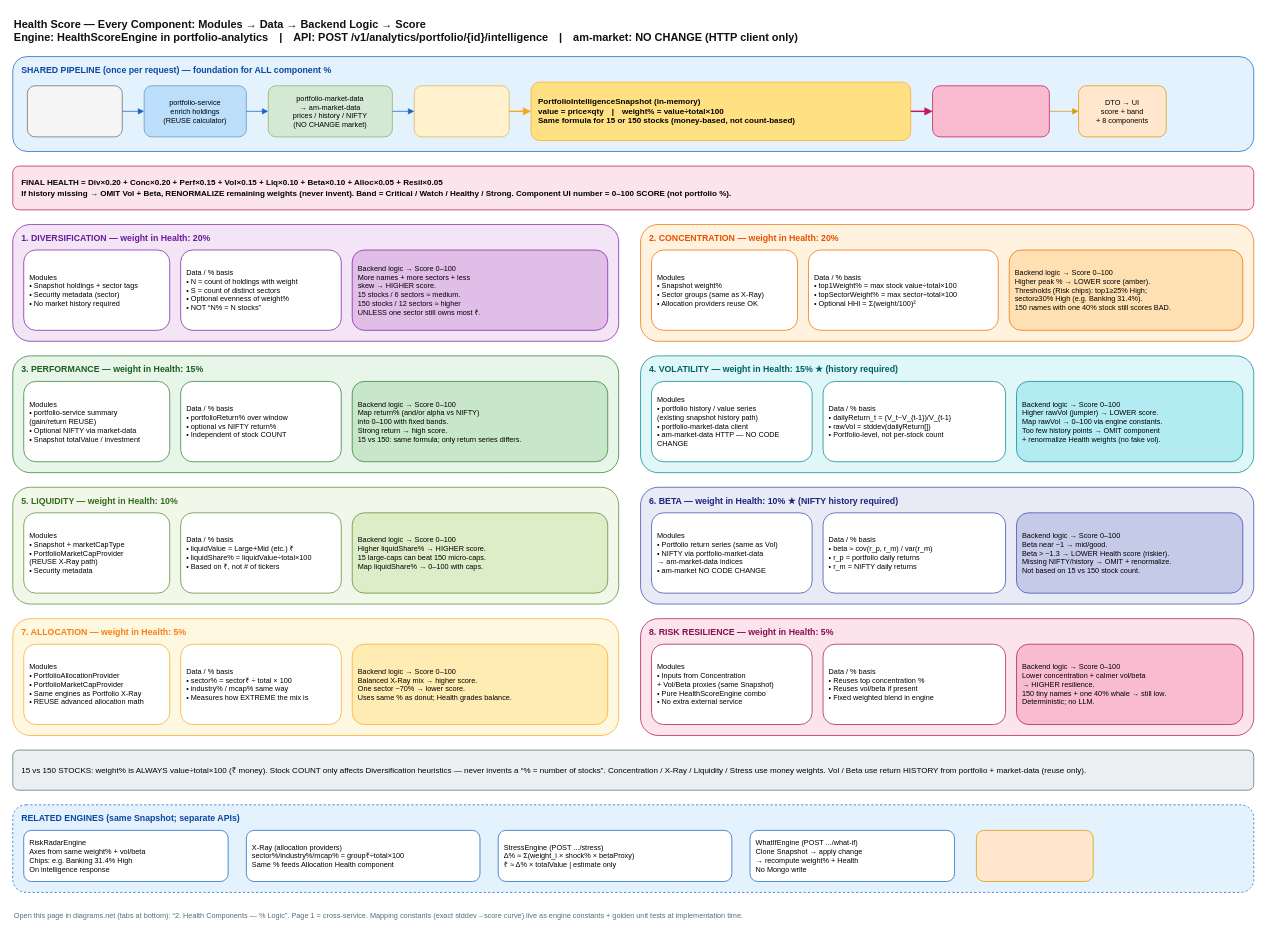
The diagram is 1267 pixels wide and 941 high, and some of its shapes have lost their labels. The centre of each missing label's shape, as x and y in pixels:
HealthScoreEngine 8 scores → weighted Health: the point at 990,111
Mongo holdings READ (trade Kafka filled): the point at 74,111
Security metadata sector / industry marketCapType: the point at 461,111
UI Overview Health card only renders DTO scores: the point at 1034,855
